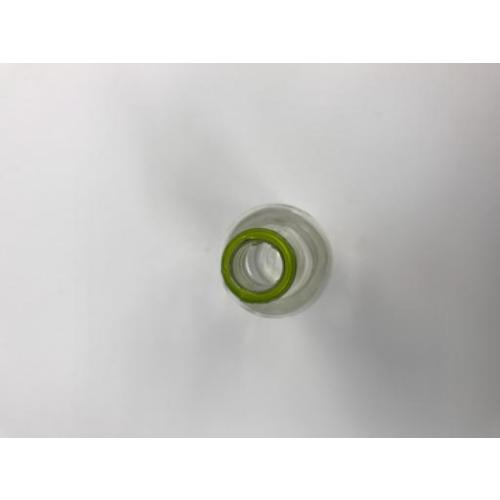glass: (220, 208, 324, 307)
